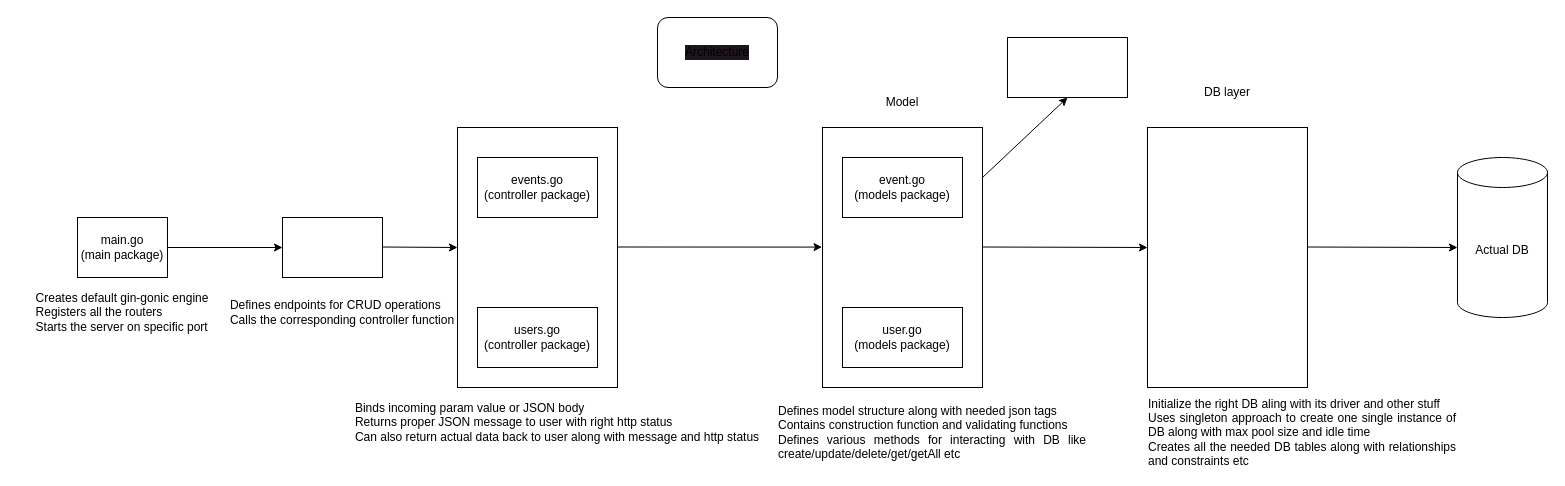
Some shapes in this 1565 by 486 pixel diagram are drawn without their labels. Each missing label, with the centre of its shape:
db.go: point (1227, 257)
routes.go (routes package): point (332, 247)
utils.go (utils package): point (1067, 67)
